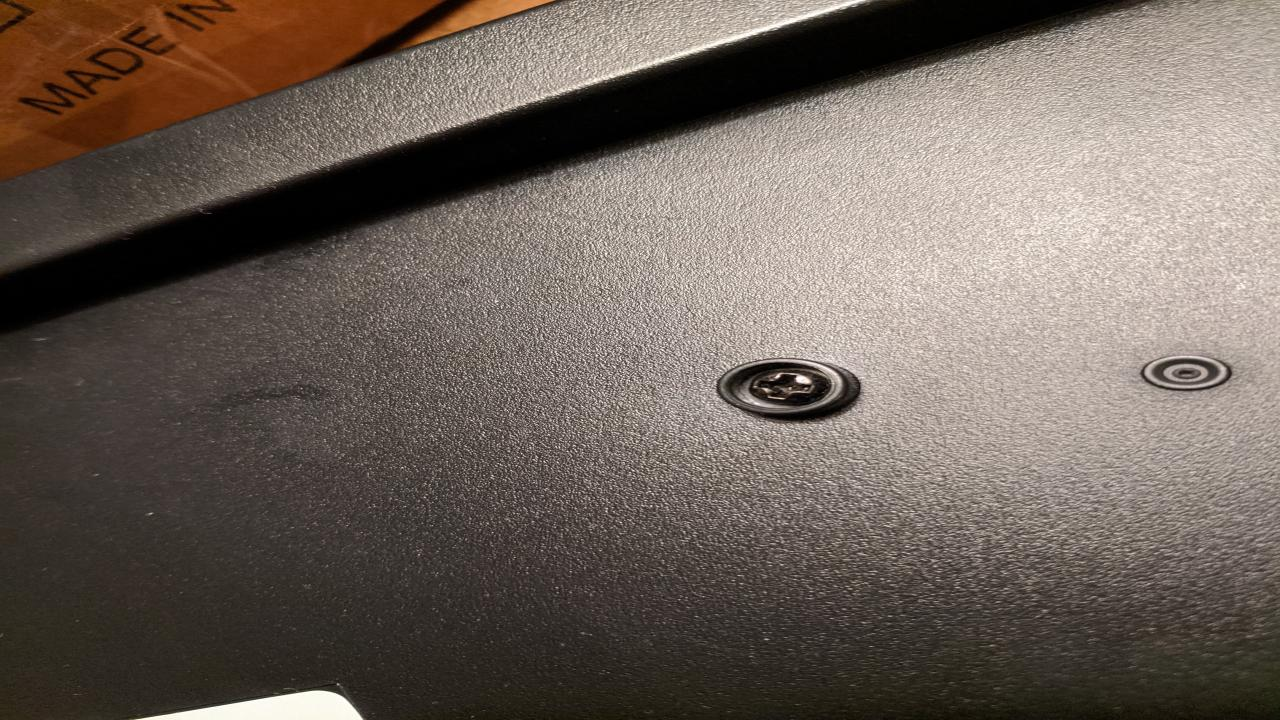CRS: (747, 367, 829, 405)
